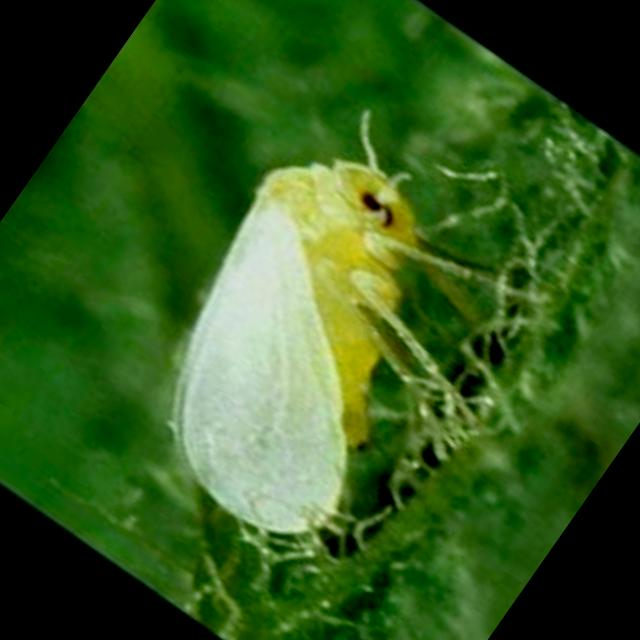Silverleaf whitefly: (78, 76, 570, 602)
